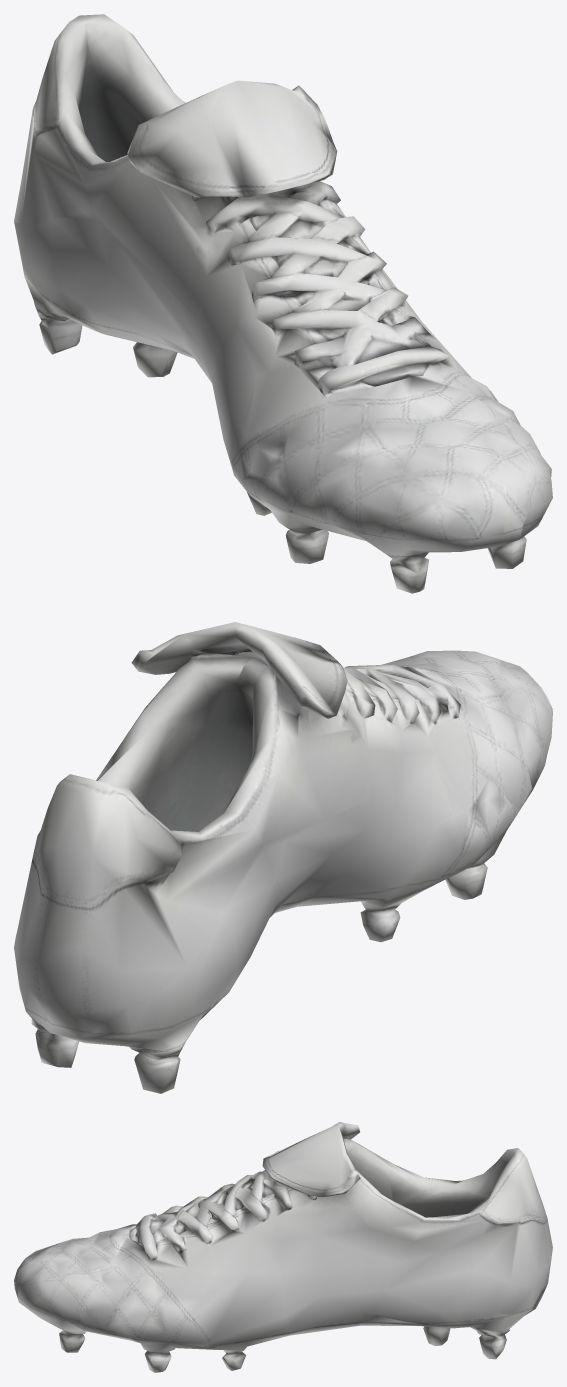
Rendered from boot-classic-lod.glb.
3 renders of one model, top to bottom at view 1: azimuth 30°, elevation 25°; view 2: azimuth 150°, elevation 25°; view 3: azimuth 270°, elevation 25°, orthographic. The views are drawn at different scales.
Visible parts, largest first — view 1: tripo_node_b5cabb40-9ecd-4e98-8e40-e4a2309d2788; view 2: tripo_node_b5cabb40-9ecd-4e98-8e40-e4a2309d2788; view 3: tripo_node_b5cabb40-9ecd-4e98-8e40-e4a2309d2788.
Part boxes in pixels (left/top/right/bottom): tripo_node_b5cabb40-9ecd-4e98-8e40-e4a2309d2788: left=14, top=14, right=552, bottom=593; tripo_node_b5cabb40-9ecd-4e98-8e40-e4a2309d2788: left=14, top=622, right=552, bottom=1093; tripo_node_b5cabb40-9ecd-4e98-8e40-e4a2309d2788: left=14, top=1122, right=552, bottom=1372.
Size of the model in its own units: 0.3159 by 0.4459 by 0.999.
1 material, 1 textured.
